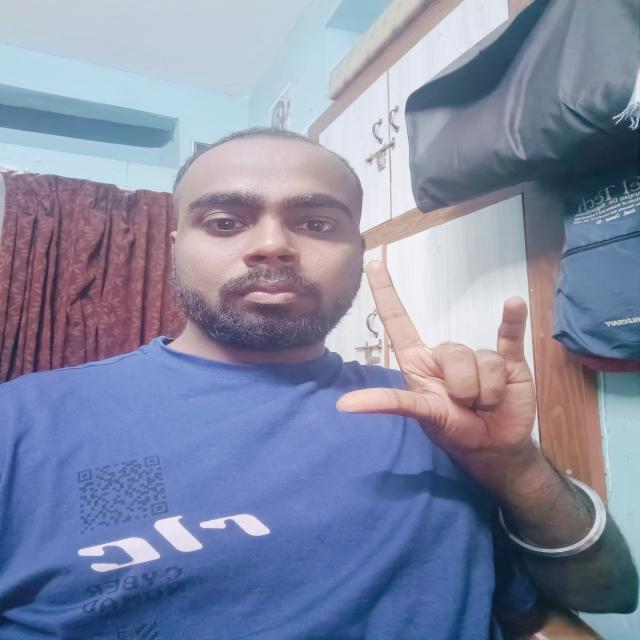I Love You: (332, 240, 612, 486)
